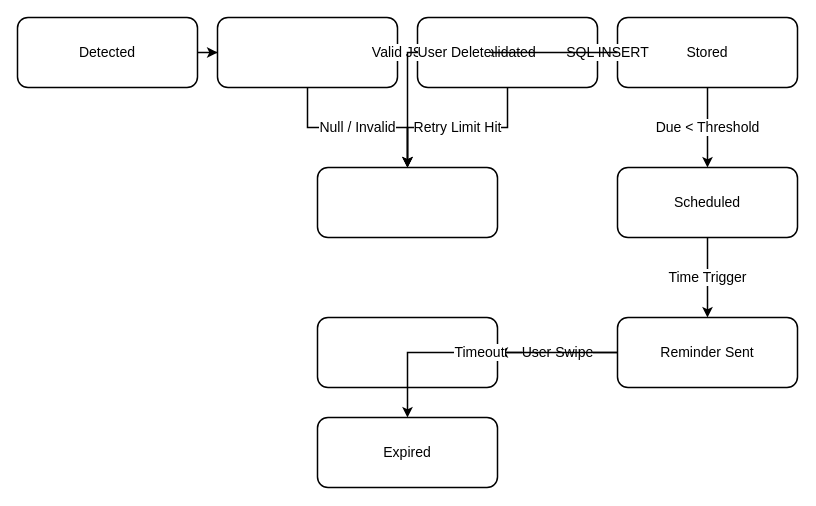
Some shapes in this 816 by 506 pixel diagram are drawn without their labels. The shapes that lost their labels are listed below. From the top down, each one's centre as x and y in pixels, then its label:
the point at 307,52: Processing
the point at 407,202: Deleted
the point at 407,352: Completed
